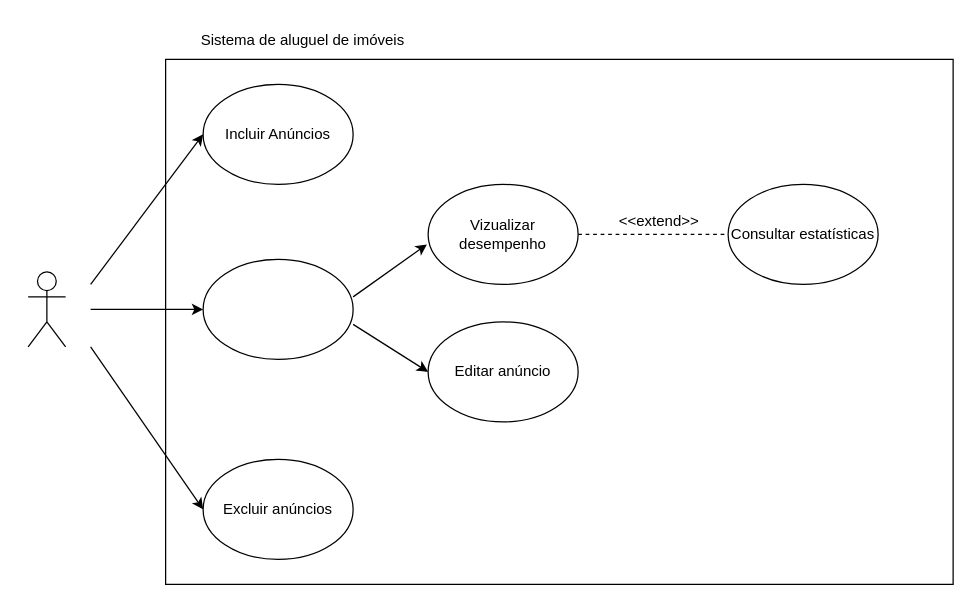
The diagram is 975 pixels wide and 606 high, and some of its shapes have lost their labels. Here are the shapes that lost their labels. From the top down, the box of each, then its label:
(27, 271, 66, 347): Usuário
(202, 258, 353, 359): Buscar anúncios publicados
